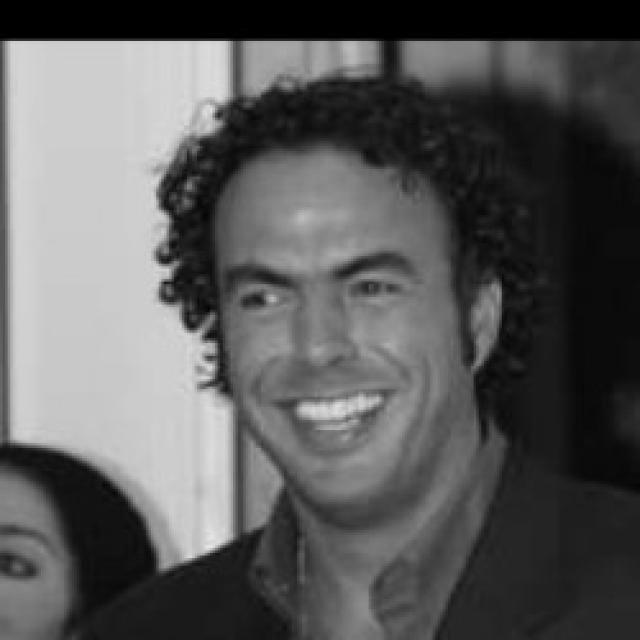real: (206, 52, 490, 528), (232, 267, 415, 319)
